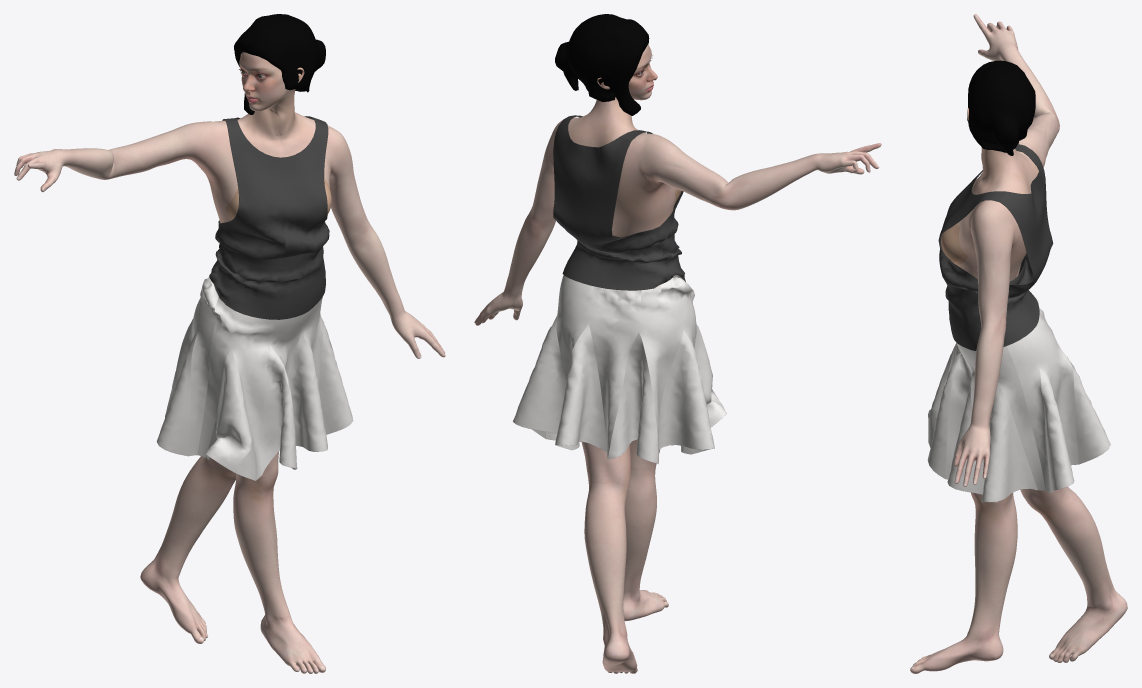
File: Custom_View_10__Dynamic.obj
The picture shows the model from 3 angles, left to right: view 1: azimuth 30°, elevation 25°; view 2: azimuth 150°, elevation 25°; view 3: azimuth 270°, elevation 25°; orthographic projection. The views are drawn at different scales.
Size of the model in its own units: 1226 by 1775 by 569.
